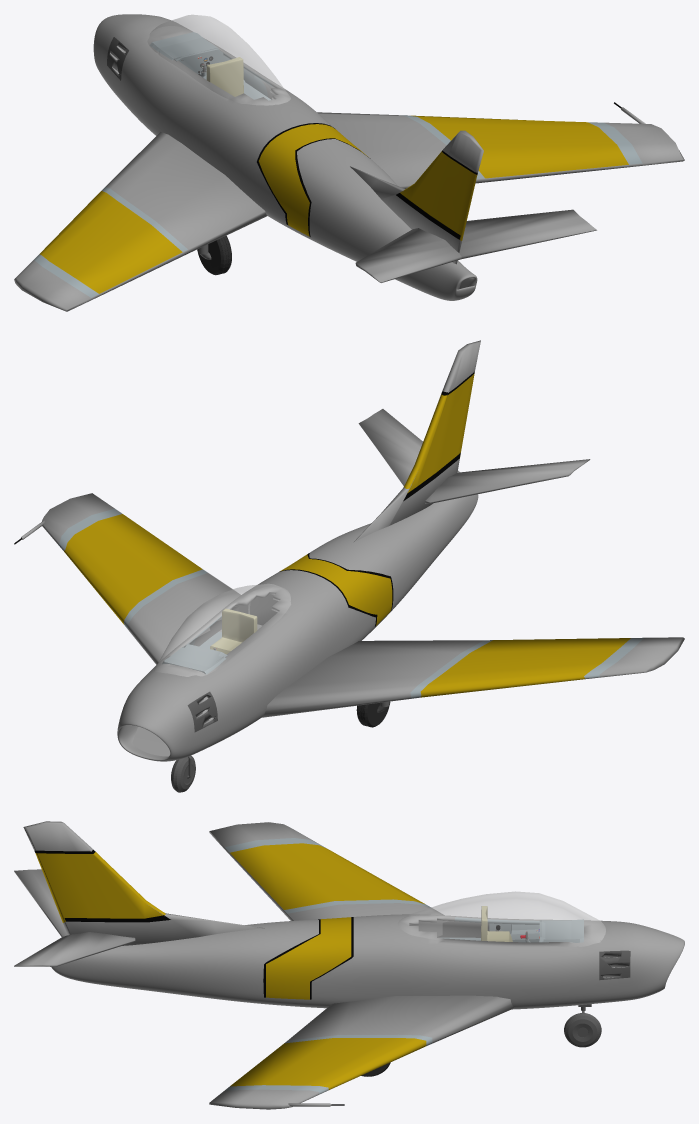
3 views of the same model, one above another, from view 1: azimuth 30°, elevation 25°; view 2: azimuth 150°, elevation 25°; view 3: azimuth 270°, elevation 25° (orthographic). The views are drawn at different scales.
Visible parts, largest first — view 1: Cube.001, Cube.000, Cube.005, Cube.003, Cylinder.003; view 2: Cube.001, Cube.000, Cube.003, Cube.005, Torus; view 3: Cube.001, Cube.000, Torus, Cube.005, Cube.006, Cube.003.
Part boxes in pixels (bbox=[...]): Cube.001: bbox=[14, 14, 684, 311]; Cube.000: bbox=[147, 14, 290, 105]; Cube.005: bbox=[150, 32, 229, 73]; Cube.003: bbox=[206, 57, 243, 96]; Cylinder.003: bbox=[197, 235, 231, 275]; Cube.001: bbox=[14, 340, 684, 761]; Cube.000: bbox=[154, 583, 290, 676]; Cube.003: bbox=[210, 608, 257, 654]; Cube.005: bbox=[162, 644, 227, 674]; Torus: bbox=[171, 755, 195, 792]; Cube.001: bbox=[14, 821, 684, 1109]; Cube.000: bbox=[398, 891, 605, 946]; Torus: bbox=[564, 1004, 601, 1047]; Cube.005: bbox=[539, 919, 583, 942]; Cube.006: bbox=[489, 923, 539, 942]; Cube.003: bbox=[481, 906, 512, 941].
Bounding box in the file's own units: 8.87 × 3.28 × 8.88.
